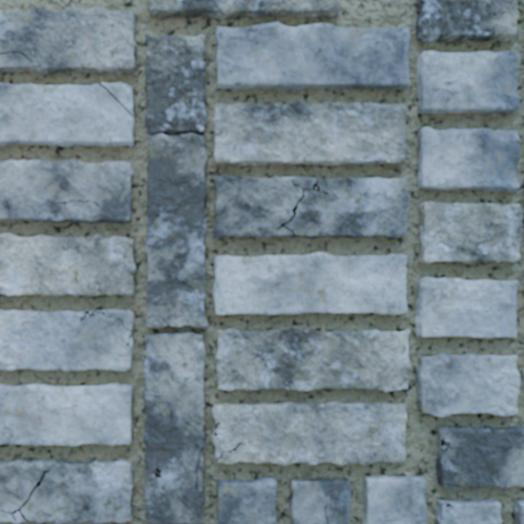brick: (145, 34, 206, 328), (216, 23, 408, 89), (213, 101, 407, 165), (213, 176, 409, 238), (216, 329, 410, 390), (212, 403, 406, 464), (213, 253, 406, 313), (144, 331, 204, 523), (0, 8, 136, 74), (0, 459, 132, 523), (0, 83, 133, 146), (0, 234, 134, 296), (0, 160, 133, 222), (0, 383, 132, 444), (0, 310, 132, 370), (418, 128, 519, 191), (417, 51, 519, 113), (416, 353, 518, 415), (420, 202, 521, 263), (416, 278, 516, 336), (437, 426, 523, 487), (416, 0, 517, 41), (148, 0, 340, 19), (364, 476, 426, 523), (217, 477, 276, 523), (290, 479, 350, 523), (436, 500, 500, 523), (103, 83, 132, 112), (103, 310, 133, 328), (514, 500, 523, 523), (0, 512, 13, 521), (15, 513, 22, 522)
crack: (275, 179, 329, 236), (0, 469, 49, 523), (78, 310, 132, 348), (98, 82, 133, 116), (167, 274, 204, 302), (215, 441, 243, 462), (195, 444, 205, 489), (213, 420, 233, 436), (442, 483, 459, 487), (215, 131, 223, 135)
